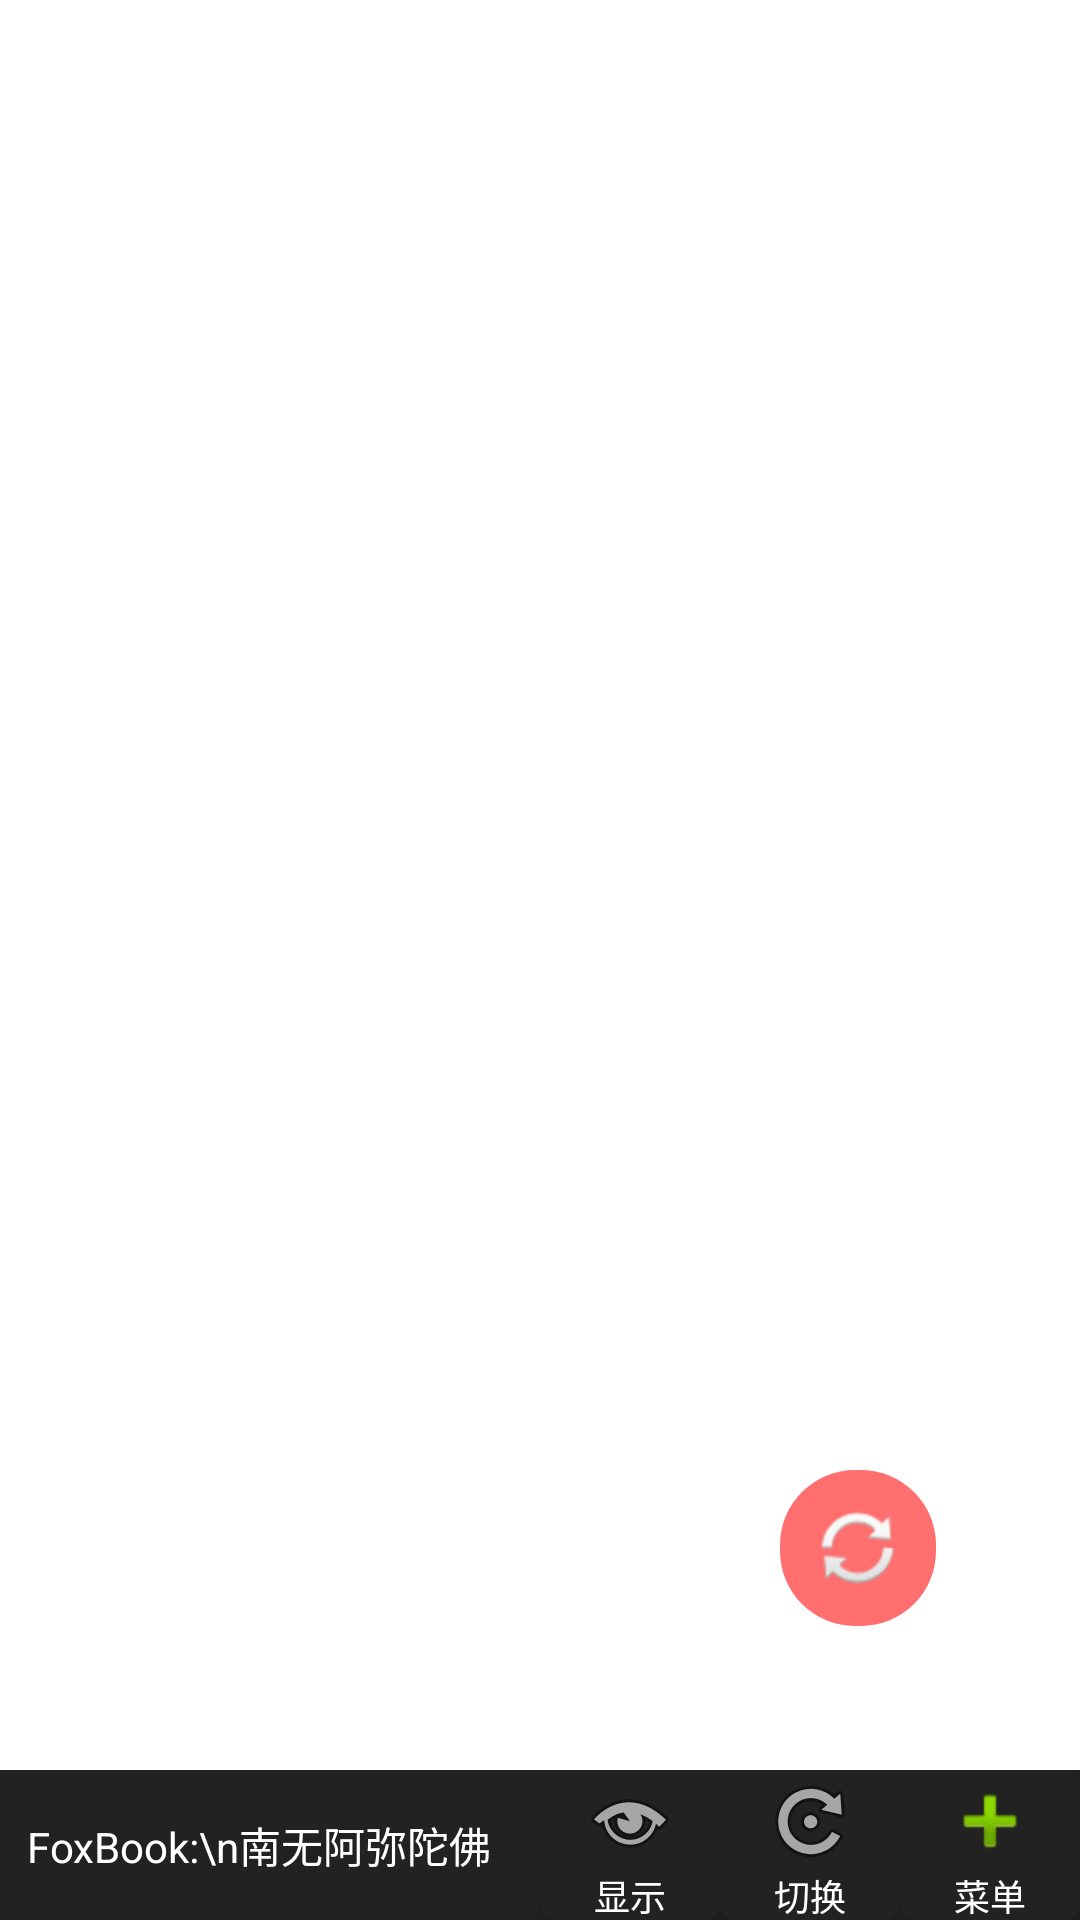

Icon bounding boxes for this 1080 × 1920 phone screenshot, format (x1, y1, x2, y2):
更新所有: (780, 1470, 936, 1626)
